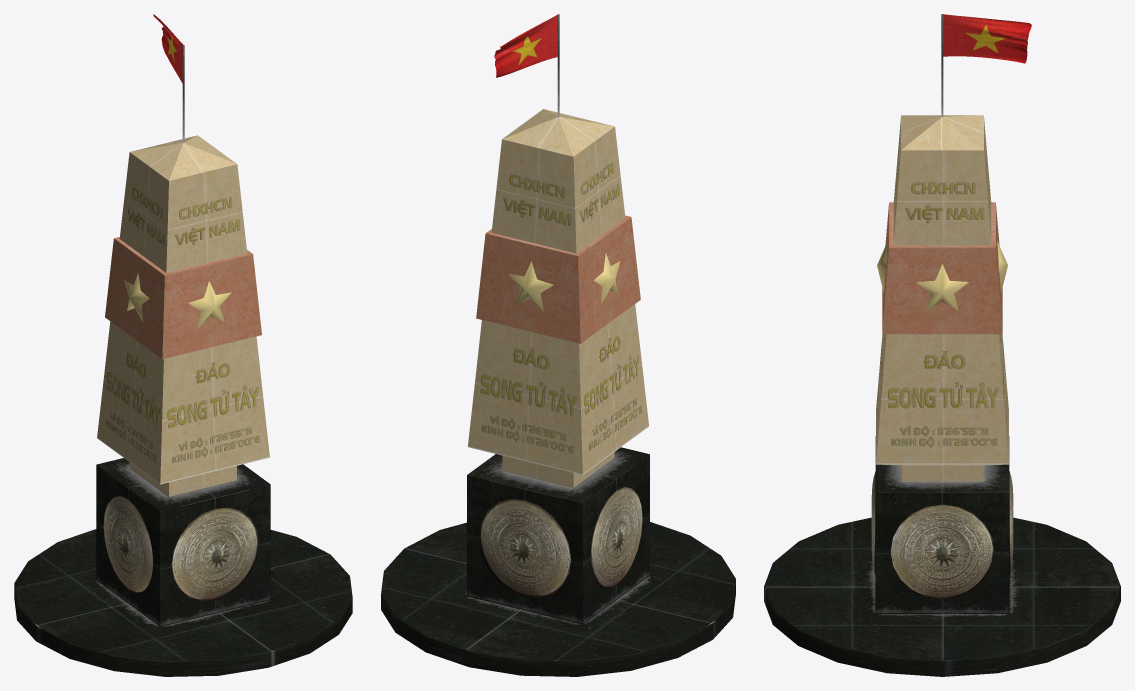
Rendered from phong01.hienvat01.model01.fbx.
3 renders of one model, left to right at view 1: azimuth 30°, elevation 25°; view 2: azimuth 150°, elevation 25°; view 3: azimuth 270°, elevation 25°, orthographic. The views are drawn at different scales.
Parts seen in each view (by area): view 1: bia_chu_quyen; view 2: bia_chu_quyen; view 3: bia_chu_quyen.
Part boxes in pixels (left/top/right/bottom): bia_chu_quyen: left=14, top=14, right=352, bottom=676; bia_chu_quyen: left=381, top=14, right=735, bottom=676; bia_chu_quyen: left=764, top=14, right=1120, bottom=676.
Bounding box in the file's own units: 14.97 × 27.21 × 14.97.
1 material, 1 textured.
